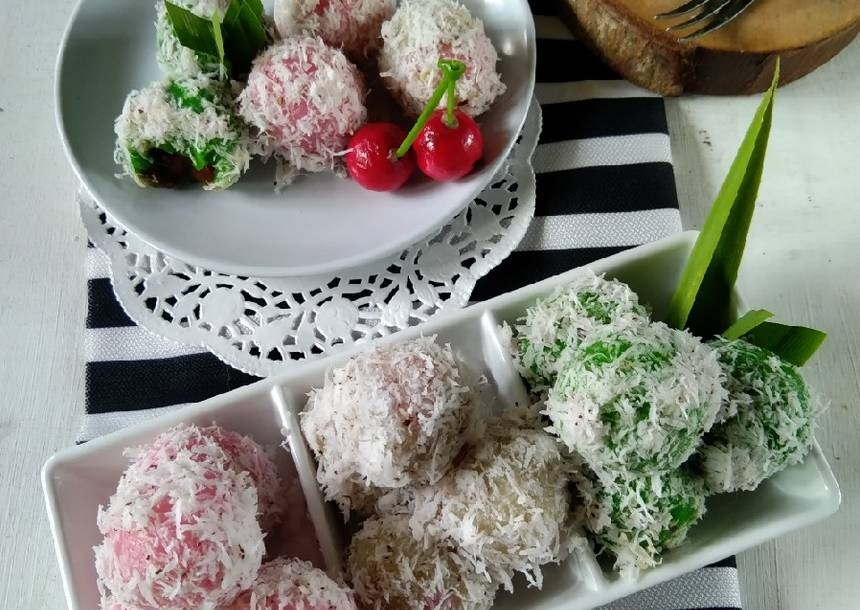klepon: (562, 308, 729, 475)
